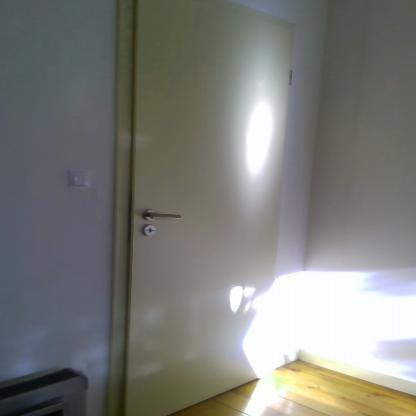door: (132, 0, 289, 407)
hinged: (288, 69, 293, 85)
lever: (147, 213, 184, 220)
